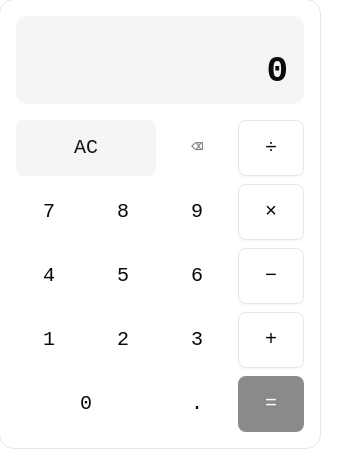
Test: Calculator › backspaces the last digit, but not while overwriting
The width and height of the screenshot is (338, 466).
Expected: the button "⌫" is disabled, [164,120,230,176]
Click the button "1" at point(49, 340), box [16,312,82,368]
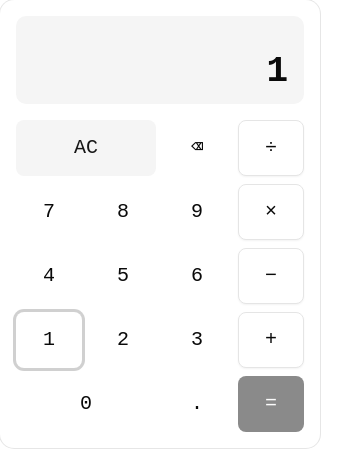
Click the button "2" at point(123, 340), box [90,312,156,368]
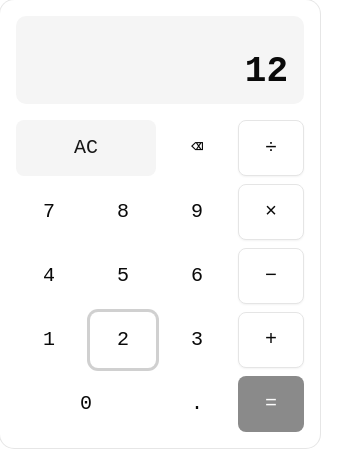
Click the button "⌫" at point(197, 148), box [164,120,230,176]
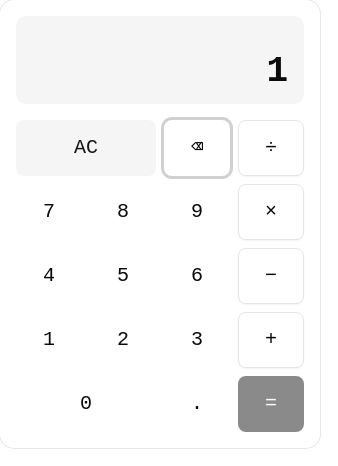
Result: the text with test id "calculator-display" reads "1" at [266,51,288,92]
